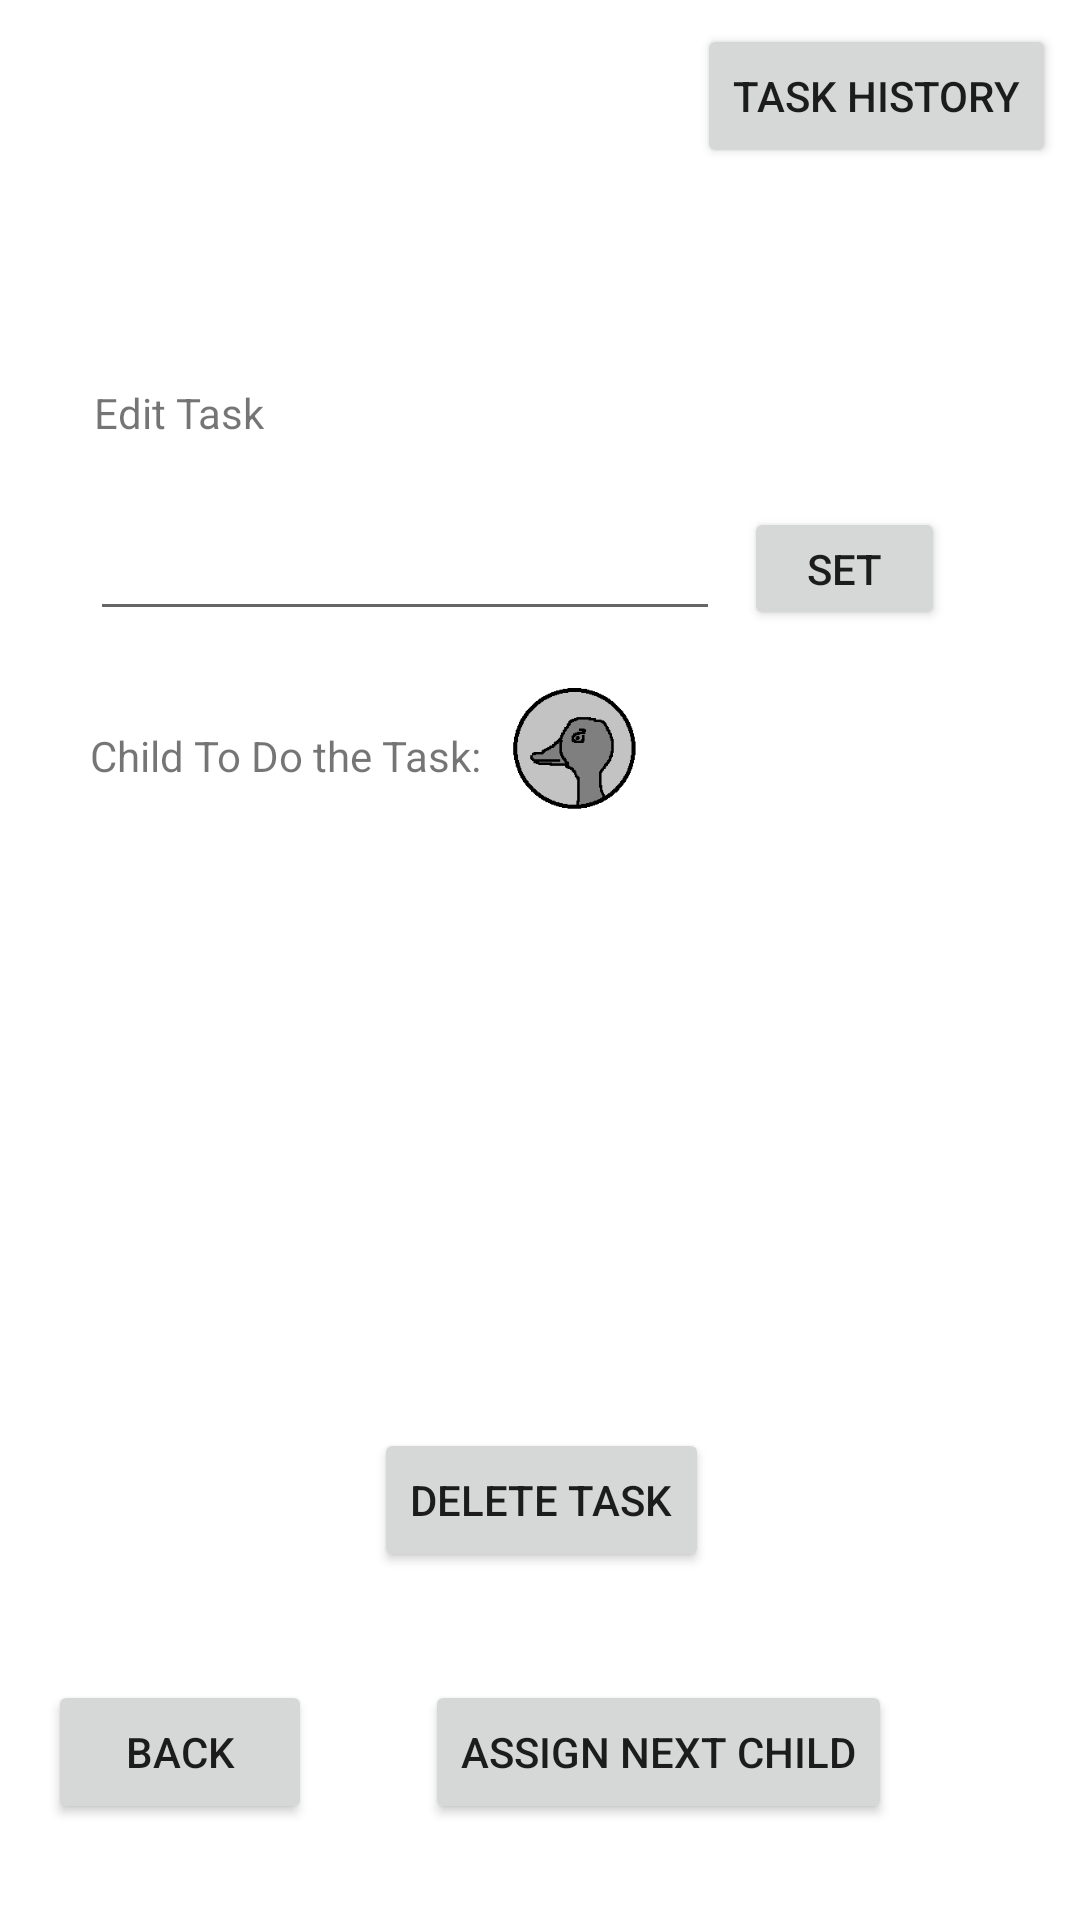

Screen size 1080x1920. Icon name, then its box in pixels as bbox=[x1, y1, x2, y2]:
heads coloured: bbox=[513, 688, 636, 809]
